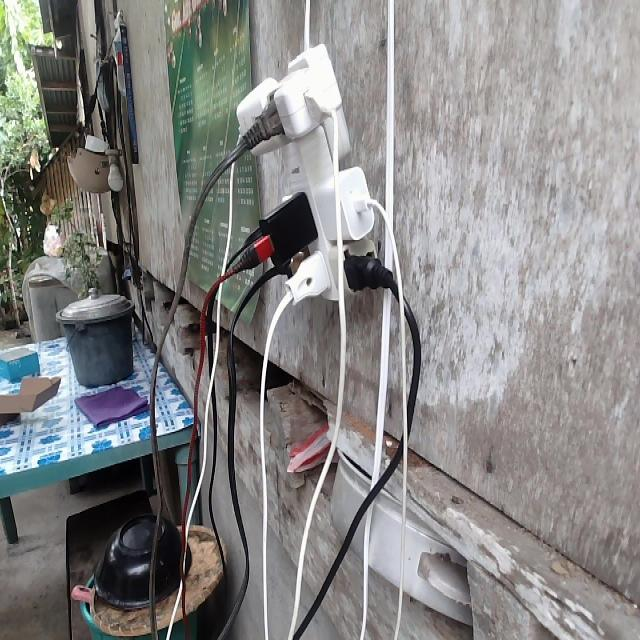-: (233, 40, 393, 312)
